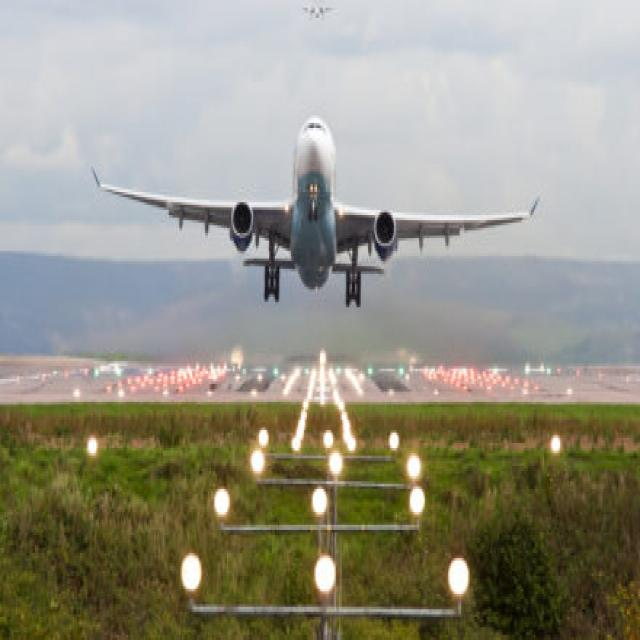plane: (96, 118, 531, 310)
